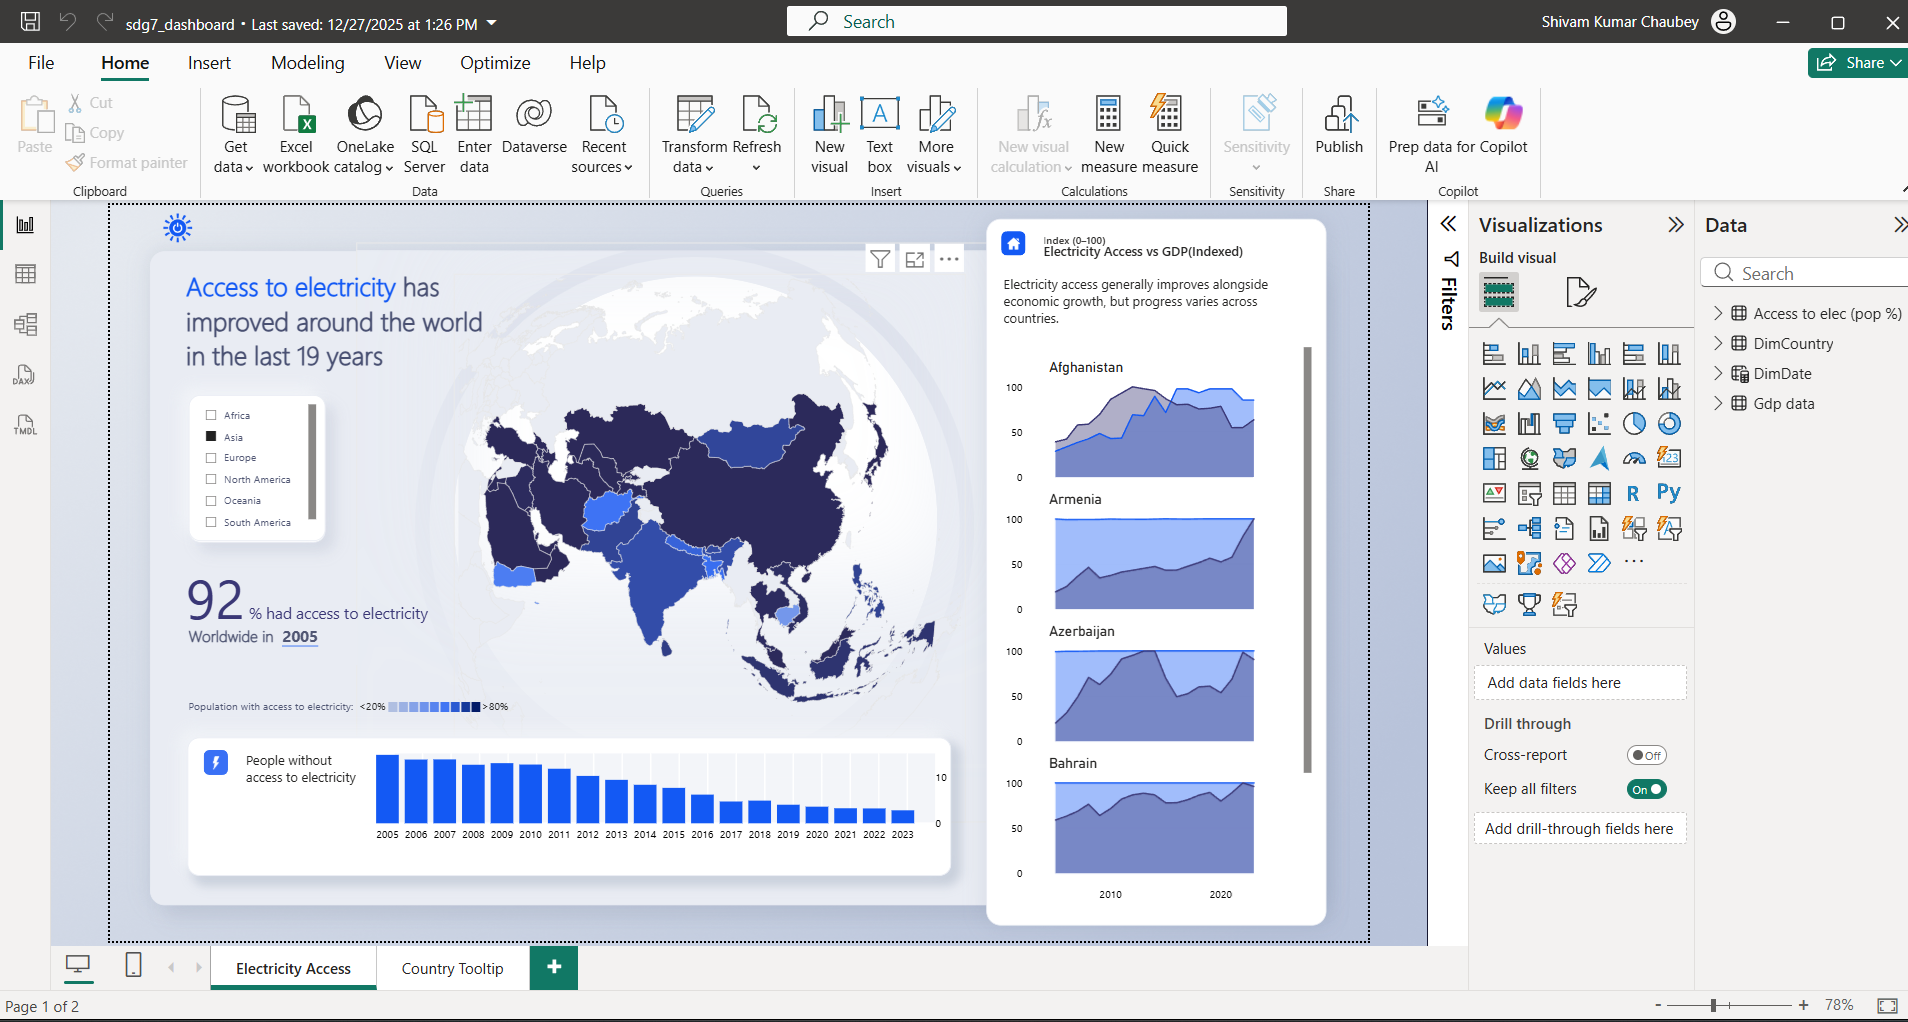

The page's visual inventory and layout, read from the dashboard file:
{"tool":"powerbi","page":{"name":"Electricity Access","canvas":[1295,758],"ordinal":0},"visuals":[{"type":"shape","title":"right panel","box":[903,14,350,728],"z":0,"group":"g7"},{"type":"textbox","box":[956,34,284,36],"z":0,"group":"g8"},{"type":"group","id":"g1","title":"main panel","box":[41,47,1211,673.3],"z":0},{"type":"shape","title":"below","box":[49,59,1192,652],"z":0,"group":"g1"},{"type":"shape","title":"white oval","box":[354,74,498,502],"z":0,"group":"g2"},{"type":"shape","box":[81,196,141,152],"z":0,"group":"g6"},{"type":"textbox","box":[74,361,321,105],"z":0,"group":"g9"},{"type":"shape","title":"below","box":[80,548,786,142],"z":0,"group":"g3"},{"type":"actionButton","box":[97,562,25,25.7],"z":0,"group":"g5"},{"type":"shape","box":[260,612,604,41],"z":0,"group":"g4"},{"type":"actionButton","box":[918,28,25,25],"z":1000,"group":"g8"},{"type":"group","id":"g2","title":"map","box":[253,39,715,597.2],"z":1000},{"type":"shape","box":[314,39,576,584],"z":1000,"group":"g2"},{"type":"shape","title":"upper","box":[41,47,1211,673.3],"z":1000,"group":"g1"},{"type":"textbox","box":[915.9,66.8,319.3,77.2],"z":1000,"group":"g7"},{"type":"slicer","fields":{"Values":["DimCountry.Region"]},"box":[81,196,141,150],"z":1000,"group":"g6"},{"type":"textbox","box":[76,428,179,46],"z":1000,"group":"g9"},{"type":"shape","title":"above","box":[80,548,786,142],"z":1000,"group":"g3"},{"type":"hundredPercentStackedColumnChart","fields":{"Category":["Extra year.extra year"],"Y":["Access to elec (pop %).WithoutAccess%"]},"box":[276,551,590,113],"z":1000,"group":"g4"},{"type":"textbox","box":[135,558,137,46],"z":1000,"group":"g5"},{"type":"textbox","box":[956,21,137,32],"z":2000,"group":"g8"},{"type":"shape","box":[253,47,715,543],"z":2000,"group":"g2"},{"type":"textbox","title":"Heading","box":[73,60,339.9,118.4],"z":2000},{"type":"textbox","box":[77,501,341,47],"z":2000,"group":"g9"},{"type":"columnChart","fields":{"Y":["Access to elec (pop %).WithoutAccess%"],"Category":["DimDate.Year"]},"box":[257,551,610,114],"z":2000,"group":"g4"},{"type":"shapeMap","fields":{"Category":["DimCountry.Country"],"Value":["Access to elec (pop %).Access%"]},"box":[353,71,527,565.2],"z":3000,"group":"g2"},{"type":"group","id":"g3","title":"population panel","box":[80,548,786,142],"z":3000},{"type":"group","id":"g4","title":"Polpulation without elec","box":[257,551,610,114],"z":4000},{"type":"image","box":[50,0,39,47],"z":5000},{"type":"group","id":"g5","title":"visual group","box":[97,558,175,46],"z":6000},{"type":"group","id":"g6","title":"Slicer","box":[81,196,141,152],"z":7000},{"type":"group","id":"g7","title":"right panel","box":[903,14,350,728],"z":8000},{"type":"group","id":"g8","title":"Top right heading","box":[918,21,322,49],"z":9000},{"type":"group","id":"g9","title":"Left text group","box":[74,361,344,187],"z":10000},{"type":"areaChart","fields":{"Category":["DimDate.Year"],"Y":["Access to elec (pop %).Access%","Gdp data.GDP Index"],"Rows":["DimCountry.Country"]},"box":[916,142,326,585],"z":11000}]}

Visuals, with their boxes on the page's 1295x758 design canvas (x1, y1, x2, y2). These are canvas units, not pixel positions in the 1908x1022 screenshot, which may show the page scaled, cropped or inside an application window:
"right panel" shape: 903/14/1253/742
textbox: 956/34/1240/70
"main panel" group: 41/47/1252/720
"below" shape: 49/59/1241/711
"white oval" shape: 354/74/852/576
shape: 81/196/222/348
textbox: 74/361/395/466
"below" shape: 80/548/866/690
actionButton: 97/562/122/588
shape: 260/612/864/653
actionButton: 918/28/943/53
"map" group: 253/39/968/636
shape: 314/39/890/623
"upper" shape: 41/47/1252/720
textbox: 916/67/1235/144
slicer - DimCountry.Region: 81/196/222/346
textbox: 76/428/255/474
"above" shape: 80/548/866/690
hundredPercentStackedColumnChart - Extra year.extra year x Access to elec (pop %).WithoutAccess%: 276/551/866/664
textbox: 135/558/272/604
textbox: 956/21/1093/53
shape: 253/47/968/590
"Heading" textbox: 73/60/413/178
textbox: 77/501/418/548
columnChart - Access to elec (pop %).WithoutAccess% x DimDate.Year: 257/551/867/665
shapeMap - DimCountry.Country x Access to elec (pop %).Access%: 353/71/880/636
"population panel" group: 80/548/866/690
"Polpulation without elec" group: 257/551/867/665
image: 50/0/89/47
"visual group" group: 97/558/272/604
"Slicer" group: 81/196/222/348
"right panel" group: 903/14/1253/742
"Top right heading" group: 918/21/1240/70
"Left text group" group: 74/361/418/548
areaChart - DimDate.Year x Access to elec (pop %).Access%: 916/142/1242/727
